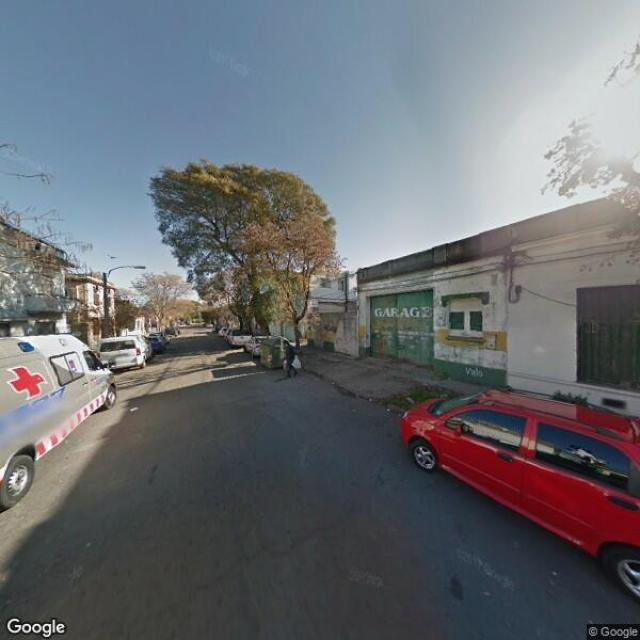garbage container: (250, 330, 300, 374)
